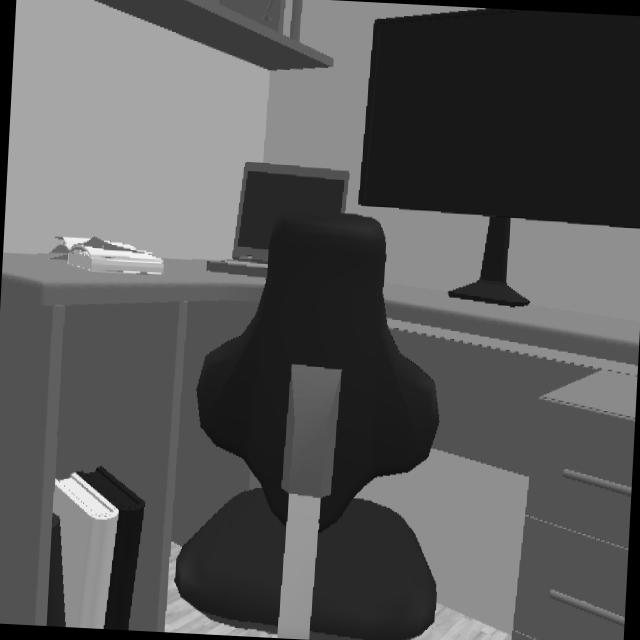book: (46, 470, 145, 630), (49, 237, 164, 278)
cabinet: (90, 0, 335, 73)
chair: (175, 209, 439, 640)
laptop: (207, 162, 349, 279)
monitor: (358, 8, 640, 307)
table: (0, 253, 263, 632), (384, 285, 640, 640)
